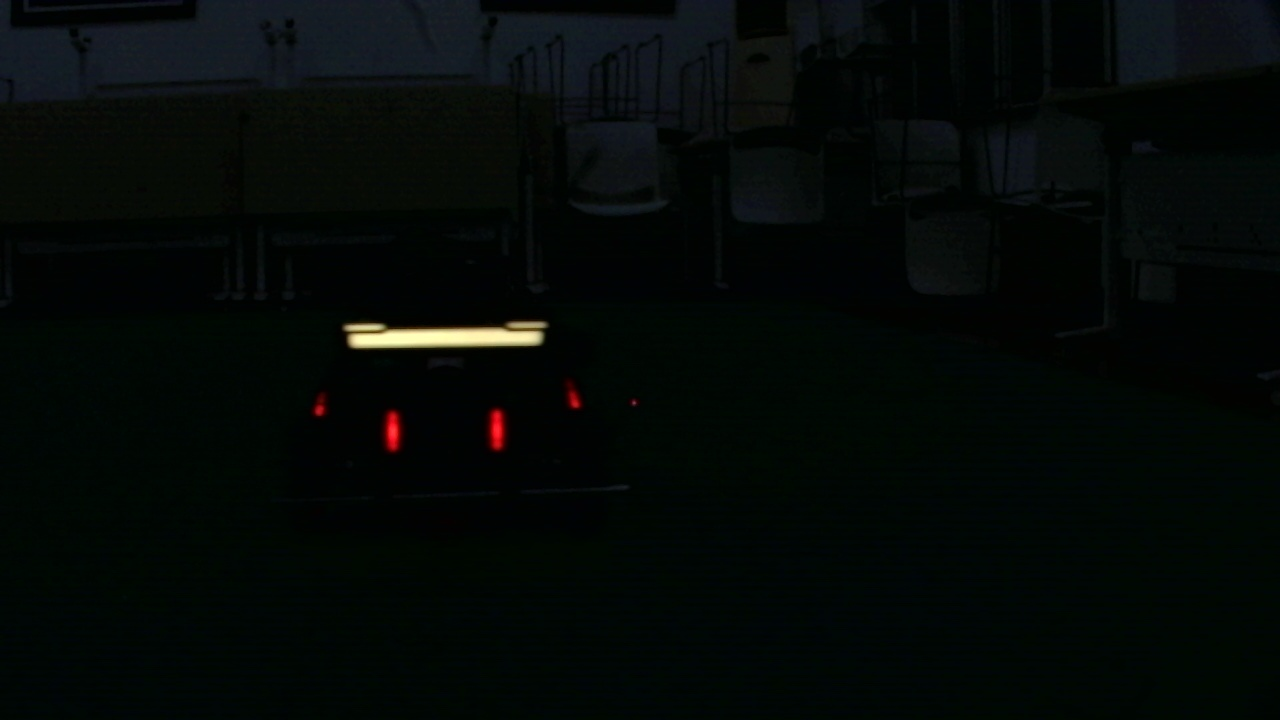lamp: (486, 405, 508, 453), (386, 408, 402, 453)
pair1: (385, 409, 502, 449)
